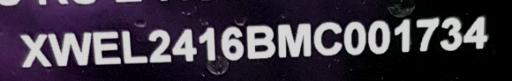letter: (274, 19, 318, 68), (46, 27, 94, 70), (309, 16, 347, 63), (15, 30, 57, 69), (116, 25, 154, 68), (88, 27, 124, 68), (461, 12, 495, 55), (366, 17, 398, 62), (218, 19, 248, 66), (244, 24, 276, 67), (414, 13, 444, 58), (171, 22, 201, 67), (438, 12, 468, 55), (145, 23, 175, 66), (390, 14, 418, 59), (196, 25, 222, 70), (342, 18, 368, 61)
